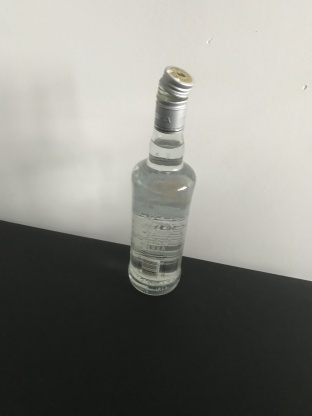nakretka: (152, 64, 195, 133)
